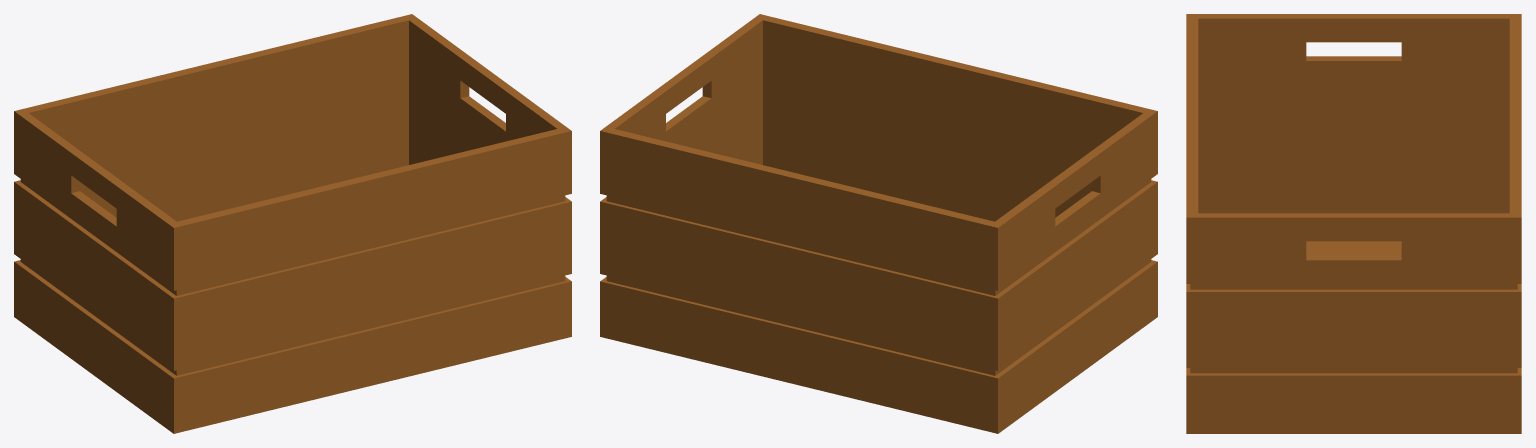
File: wood_box_1.fbx
3 renders of one model, left to right at view 1: azimuth 30°, elevation 25°; view 2: azimuth 150°, elevation 25°; view 3: azimuth 270°, elevation 25°, orthographic. The views are drawn at different scales.
Visible parts, largest first — view 1: wood_box_2; view 2: wood_box_2; view 3: wood_box_2.
Part boxes in pixels (bbox=[...]): wood_box_2: bbox=[14, 14, 571, 433]; wood_box_2: bbox=[600, 14, 1157, 433]; wood_box_2: bbox=[1186, 14, 1521, 433].
Bounding box in the file's own units: 1.14 × 0.5637 × 0.7922.
